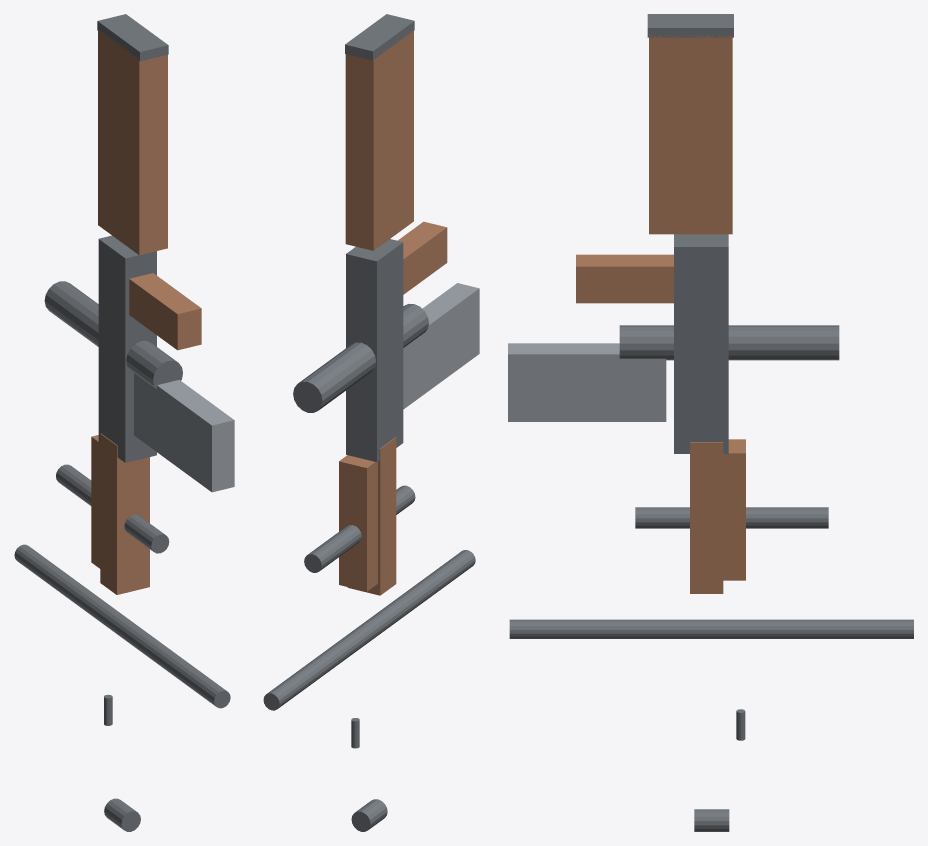
3 views of the same model, side by side, from view 1: azimuth 30°, elevation 25°; view 2: azimuth 150°, elevation 25°; view 3: azimuth 270°, elevation 25° (orthographic). The views are drawn at different scales.
Parts seen in each view (by area): view 1: Weapon_AK47; view 2: Weapon_AK47; view 3: Weapon_AK47.
Part boxes in pixels (x1=…): Weapon_AK47: x1=14, y1=14, x2=234, y2=831; Weapon_AK47: x1=263, y1=14, x2=479, y2=831; Weapon_AK47: x1=508, y1=14, x2=913, y2=831.
Bounding box in the file's own units: 0.044 × 1.02 × 0.462.
